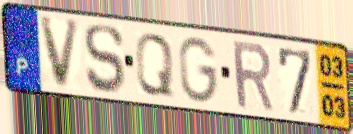7: (276, 46, 313, 116)
G: (176, 34, 220, 106)
Q: (133, 31, 175, 99)
R: (230, 39, 277, 114)
S: (82, 23, 126, 96)
V: (38, 15, 83, 91)
